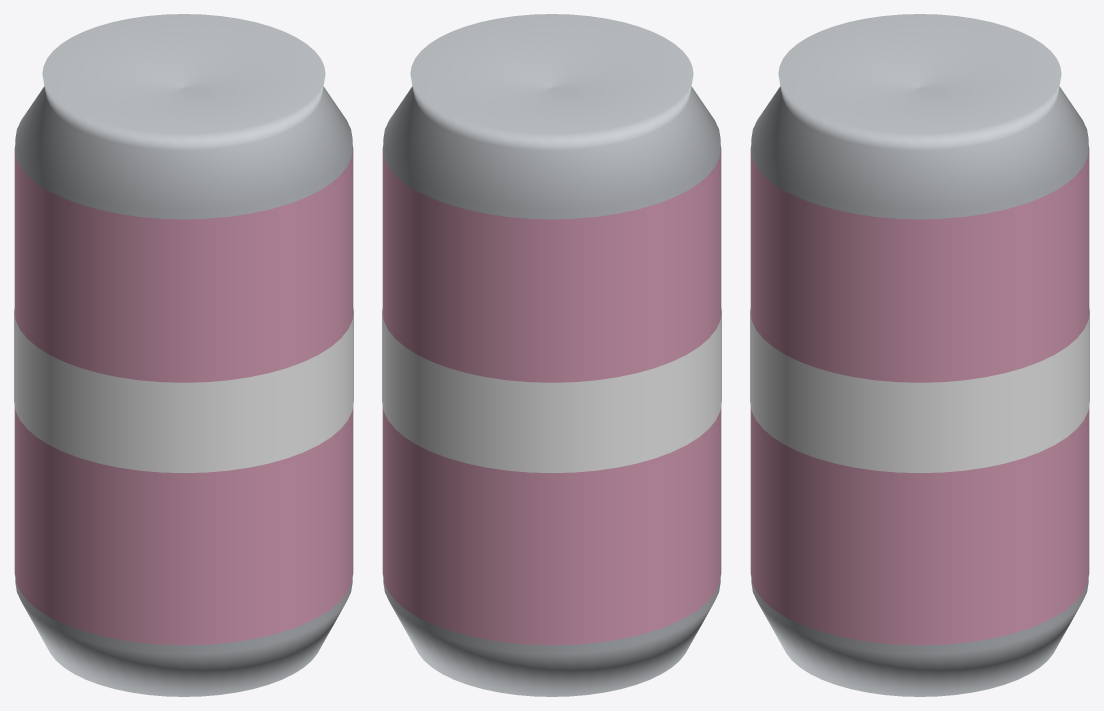
Rendered from soda-hatsu.glb.
The picture shows the model from 3 angles, left to right: view 1: azimuth 30°, elevation 25°; view 2: azimuth 150°, elevation 25°; view 3: azimuth 270°, elevation 25°; orthographic projection.
Parts seen in each view (by area): view 1: cuerpo, object 1, object 3; view 2: cuerpo, object 1, object 3; view 3: cuerpo, object 1, object 3.
Part boxes in pixels (<box>): cuerpo: <box>14,145,353,645</box>; object 1: <box>15,14,352,696</box>; object 3: <box>14,308,353,473</box>; cuerpo: <box>382,145,721,645</box>; object 1: <box>383,14,720,696</box>; object 3: <box>382,308,721,473</box>; cuerpo: <box>750,145,1089,645</box>; object 1: <box>751,14,1088,696</box>; object 3: <box>750,308,1089,473</box>.
Size of the model in its own units: 0.0665 by 0.122 by 0.0665.
